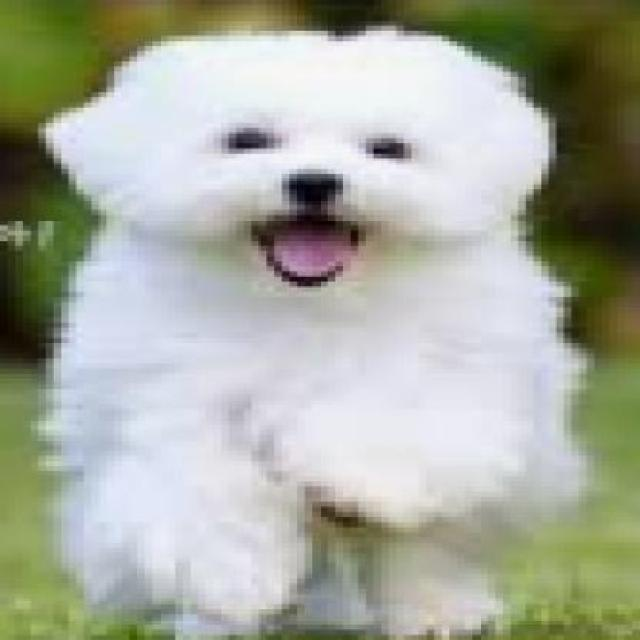Dog: (38, 15, 594, 636)
